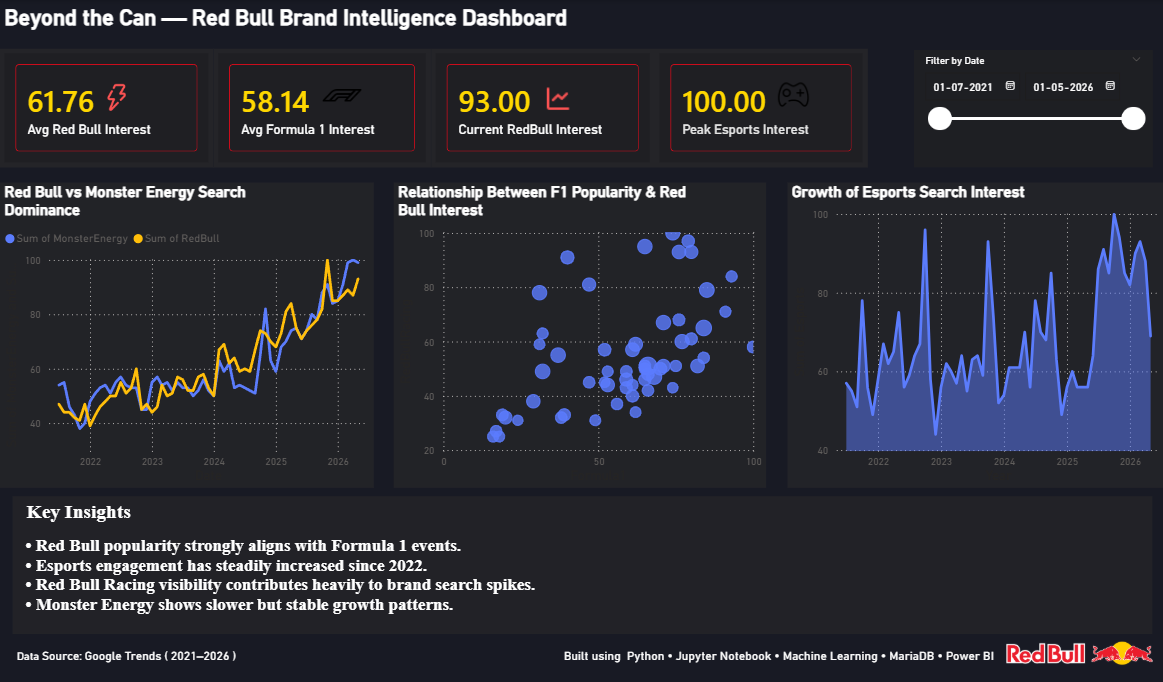

The page's visual inventory and layout, read from the dashboard file:
{"tool":"powerbi","page":{"name":"Page 1","canvas":[1280,751],"ordinal":0},"visuals":[{"type":"lineChart","title":"Red Bull vs Monster Energy Search Dominance","fields":{"Y":["Sum(redbull_master.MonsterEnergy)","Sum(redbull_master.RedBull)"],"Category":["redbull_master.Date"]},"box":[0,200.3,410.3,334.8],"z":0},{"type":"scatterChart","title":"Relationship Between F1 Popularity & Red Bull Interest","fields":{"X":["redbull_master.Formula1"],"Y":["redbull_master.RedBullRacing"],"Size":["Sum(redbull_master.RedBull)"]},"box":[432.2,200.3,408.9,334.8],"z":1000},{"type":"areaChart","title":"Growth of Esports Search Interest","fields":{"Y":["Sum(redbull_master.Esports)"],"Category":["redbull_master.Date.Variation.Date Hierarchy.Year","redbull_master.Date.Variation.Date Hierarchy.Quarter","redbull_master.Date.Variation.Date Hierarchy.Month","redbull_master.Date.Variation.Date Hierarchy.Day"]},"box":[864.5,200.3,415.8,334.8],"z":2000},{"type":"cardVisual","title":"Average Red Bull Interest","fields":{"Data":["Avg(redbull_master.RedBull)"]},"box":[0,53.5,234.6,130.4],"z":3000},{"type":"cardVisual","fields":{"Data":["redbull_master.Current RedBull Interest"]},"box":[473.4,53.5,245.6,130.4],"z":4000},{"type":"cardVisual","fields":{"Data":["Avg(redbull_master.Formula1)"]},"box":[234.6,53.5,238.8,130.4],"z":5000},{"type":"cardVisual","fields":{"Data":["Max(redbull_master.Esports)"]},"box":[719,53.5,233.3,130.4],"z":6000},{"type":"slicer","fields":{"Values":["redbull_master.Date"]},"box":[1003.1,54.9,262.1,129],"z":7000},{"type":"textbox","box":[13.7,544.8,1251.5,150.9],"z":8000},{"type":"textbox","box":[0,0,990.7,48],"z":9000},{"type":"image","box":[352.7,74.1,45.3,60.4],"z":10000},{"type":"image","box":[846.7,85.1,49.4,34.3],"z":11000},{"type":"image","box":[109.8,81,37,52.1],"z":12000},{"type":"image","box":[591.4,91.9,42.5,32.9],"z":13000},{"type":"image","box":[1104.6,695.7,160.5,42.5],"z":13001},{"type":"textbox","box":[13.7,708.1,1090.9,42.5],"z":13002}]}

Visuals, with their boxes in screenshot pixels (x1, y1, x2, y2), scaled from the page's 1280x751 canvas onto the 1163x682 screenshot:
"Red Bull vs Monster Energy Search Dominance" lineChart: x1=0, y1=182, x2=373, y2=486
"Relationship Between F1 Popularity & Red Bull Interest" scatterChart: x1=393, y1=182, x2=764, y2=486
"Growth of Esports Search Interest" areaChart: x1=785, y1=182, x2=1162, y2=486
"Average Red Bull Interest" cardVisual: x1=0, y1=49, x2=213, y2=167
cardVisual - redbull_master.Current RedBull Interest: x1=430, y1=49, x2=653, y2=167
cardVisual - Avg(redbull_master.Formula1): x1=213, y1=49, x2=430, y2=167
cardVisual - Max(redbull_master.Esports): x1=653, y1=49, x2=865, y2=167
slicer - redbull_master.Date: x1=911, y1=50, x2=1150, y2=167
textbox: x1=12, y1=495, x2=1150, y2=632
textbox: x1=0, y1=0, x2=900, y2=44
image: x1=320, y1=67, x2=362, y2=122
image: x1=769, y1=77, x2=814, y2=108
image: x1=100, y1=74, x2=133, y2=121
image: x1=537, y1=83, x2=576, y2=113
image: x1=1004, y1=632, x2=1149, y2=670
textbox: x1=12, y1=643, x2=1004, y2=681
